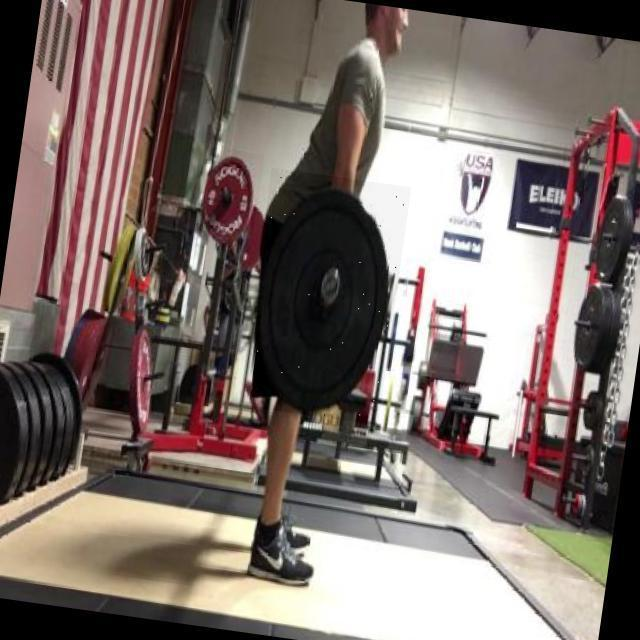barbell: (240, 169, 413, 426), (193, 148, 266, 256)
